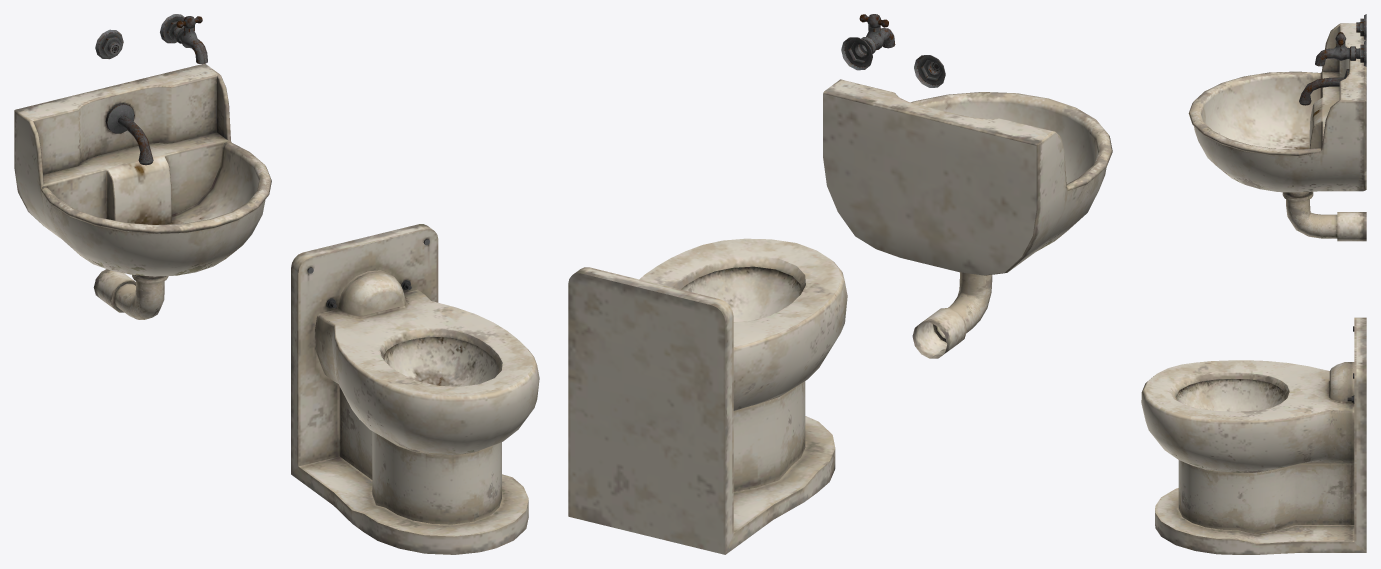
The model's file is 193_PrisonToiletSink.fbx.
3 views of the same model, side by side, from view 1: azimuth 30°, elevation 25°; view 2: azimuth 150°, elevation 25°; view 3: azimuth 270°, elevation 25° (orthographic). The views are drawn at different scales.
Parts seen in each view (by area): view 1: LOD_1_Group_0_Sub_1__sm30_193_PrisonToiletSink01A_A_Mat; view 2: LOD_1_Group_0_Sub_1__sm30_193_PrisonToiletSink01A_A_Mat; view 3: LOD_1_Group_0_Sub_1__sm30_193_PrisonToiletSink01A_A_Mat.
Boxes of the visible parts, <box> form: LOD_1_Group_0_Sub_1__sm30_193_PrisonToiletSink01A_A_Mat: <box>14,14,539,554</box>; LOD_1_Group_0_Sub_1__sm30_193_PrisonToiletSink01A_A_Mat: <box>568,14,1112,554</box>; LOD_1_Group_0_Sub_1__sm30_193_PrisonToiletSink01A_A_Mat: <box>1141,14,1366,554</box>.
Size of the model in its own units: 1.2 by 1.32 by 0.6513.
